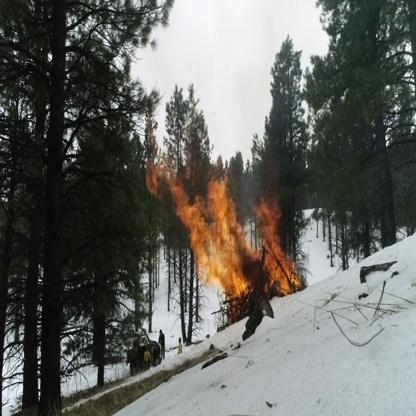Fire: (146, 153, 307, 301)
